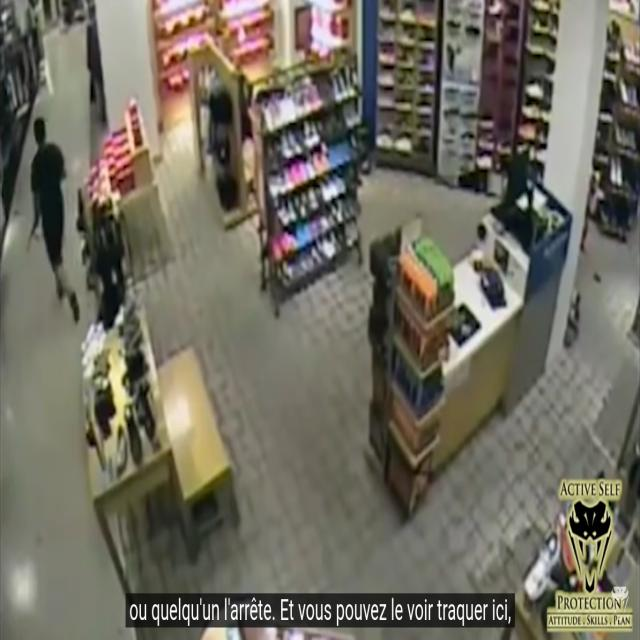Rifle: (24, 206, 41, 256)
